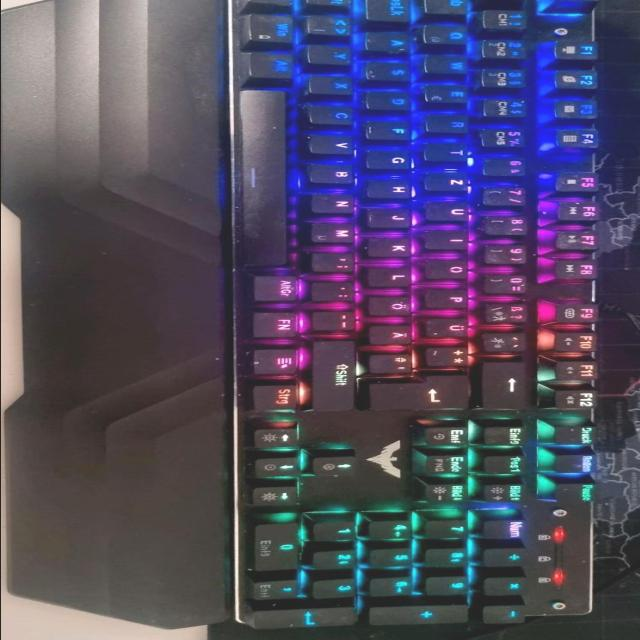0: (483, 272, 531, 294)
1: (483, 8, 531, 30)
2: (483, 37, 529, 59)
3: (481, 67, 529, 89)
4: (482, 98, 530, 118)
5: (480, 127, 526, 147)
6: (485, 156, 529, 176)
7: (483, 185, 529, 207)
8: (483, 214, 532, 236)
9: (485, 242, 531, 264)
a: (368, 30, 412, 52)
accent: (483, 331, 531, 352)
ae: (370, 324, 418, 344)
alt-left: (250, 51, 298, 79)
altgr-right: (255, 274, 303, 301)
b: (311, 163, 359, 183)
c: (310, 103, 358, 124)
caret: (484, 0, 530, 5)
comma: (311, 251, 359, 272)
d: (367, 90, 415, 110)
del: (483, 360, 531, 408)
e: (426, 83, 472, 103)
enter: (367, 373, 475, 409)
f: (368, 119, 416, 139)
g: (368, 149, 416, 169)
h: (368, 178, 416, 198)
hash: (369, 351, 417, 373)
i: (427, 229, 473, 249)
j: (369, 206, 417, 227)
k: (367, 235, 415, 257)
keyboard: (212, 0, 610, 638)
l: (369, 265, 417, 287)
less: (307, 13, 356, 35)
m: (311, 221, 359, 243)
minus: (314, 310, 360, 330)
n: (313, 193, 359, 213)
o: (424, 257, 472, 279)
oe: (368, 295, 416, 315)
p: (425, 287, 473, 308)
plus: (425, 344, 474, 366)
point: (313, 281, 359, 301)
q: (425, 24, 471, 45)
r: (429, 113, 473, 133)
s: (367, 61, 415, 81)
shift-left: (307, 0, 351, 10)
shift-lock: (367, 0, 415, 21)
shift-right: (314, 339, 360, 409)
space: (238, 87, 292, 267)
ss: (483, 302, 529, 324)
strg-left: (251, 0, 295, 9)
strg-right: (254, 381, 302, 411)
t: (426, 141, 472, 161)
tab: (426, 0, 472, 14)
u: (427, 200, 473, 221)
ue: (424, 316, 473, 338)
v: (311, 134, 357, 154)
w: (426, 53, 470, 73)
x: (311, 74, 357, 94)
y: (309, 44, 355, 64)
z: (427, 171, 473, 191)
